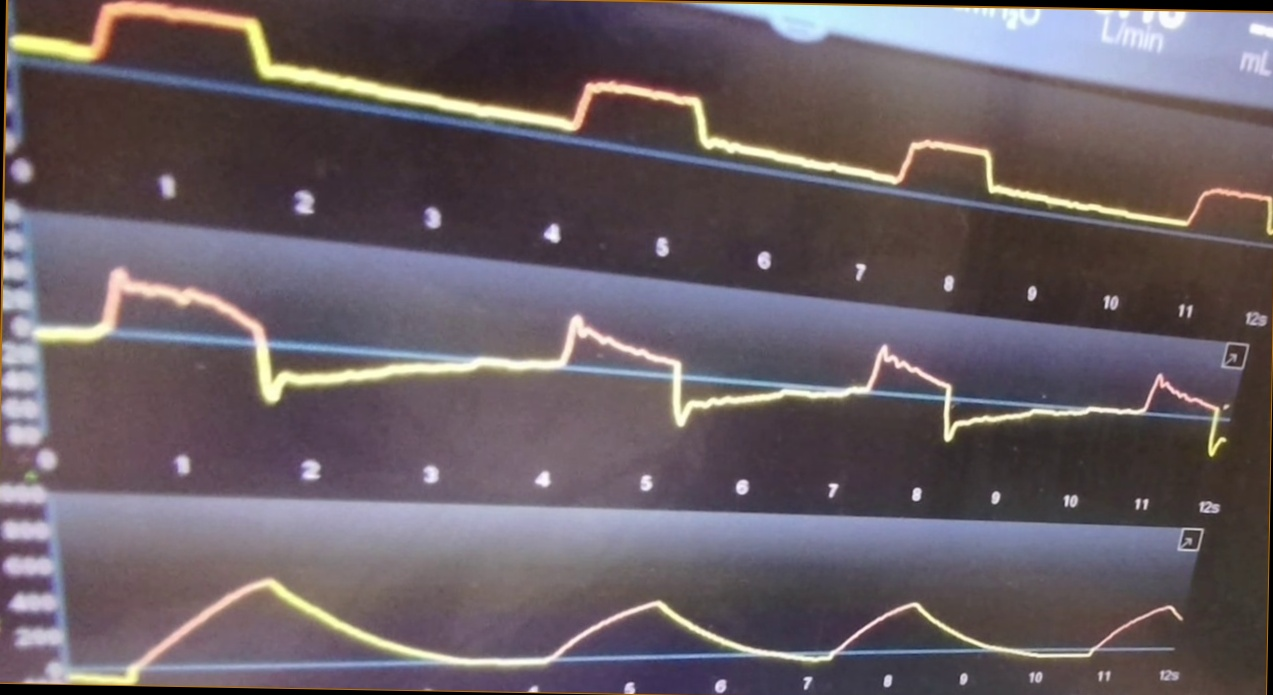Accumulation Flow: (42, 265, 1224, 460)
Volume: (74, 560, 1183, 686)
